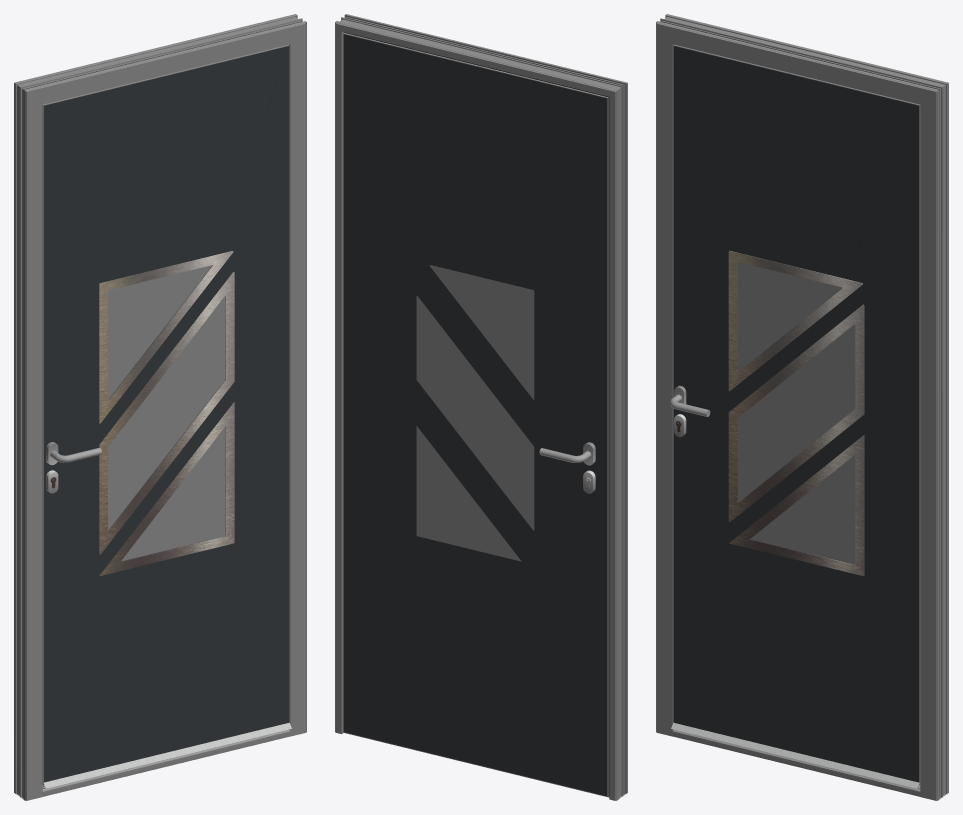
The picture shows the model from 3 angles, left to right: view 1: azimuth 30°, elevation 25°; view 2: azimuth 150°, elevation 25°; view 3: azimuth 330°, elevation 25°; orthographic projection.
Visible parts, largest first — view 1: bloco_4, aroFixo, Box001, alunox_3, aroMovel, rodapé, escovas, puxador001; view 2: bloco_4, aroFixo, Box002, aroMovel, puxador; view 3: bloco_4, aroFixo, Box001, alunox_3, aroMovel, rodapé, escovas, puxador001.
Boxes of the visible parts, <box> form: bloco_4: <box>44,46,289,782</box>; aroFixo: <box>14,14,306,800</box>; Box001: <box>108,265,225,561</box>; alunox_3: <box>99,251,234,576</box>; aroMovel: <box>42,44,289,784</box>; rodapé: <box>42,729,290,796</box>; escovas: <box>42,722,291,788</box>; puxador001: <box>46,442,101,493</box>; bloco_4: <box>343,34,607,796</box>; aroFixo: <box>335,14,627,800</box>; Box002: <box>416,265,534,561</box>; aroMovel: <box>343,32,609,796</box>; puxador: <box>539,442,595,493</box>; bloco_4: <box>673,46,919,782</box>; aroFixo: <box>656,14,948,800</box>; Box001: <box>738,262,855,564</box>; alunox_3: <box>728,250,864,576</box>; aroMovel: <box>673,44,920,784</box>; rodapé: <box>672,729,920,796</box>; escovas: <box>671,722,920,788</box>; puxador001: <box>669,385,710,437</box>.
Bounding box in the file's own units: 900 × 2165 × 209.
Materials: 10 (5 with a texture image).
